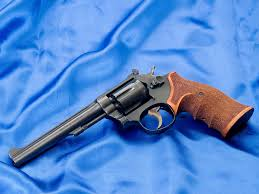gun: (7, 66, 256, 169)
